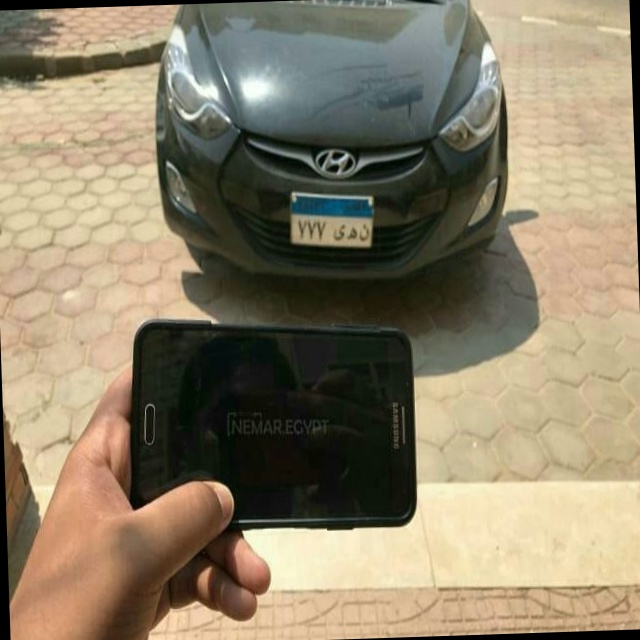License Plate: (284, 183, 378, 254)
